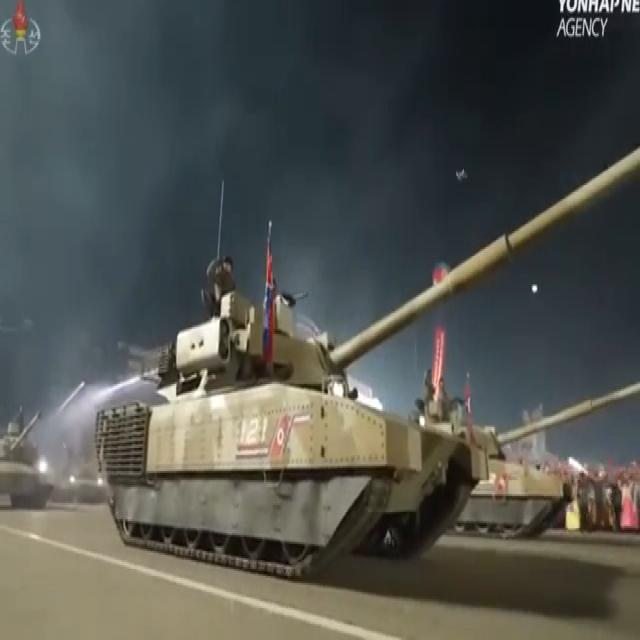north tank: (92, 128, 640, 618), (395, 357, 640, 638), (0, 392, 99, 535)
